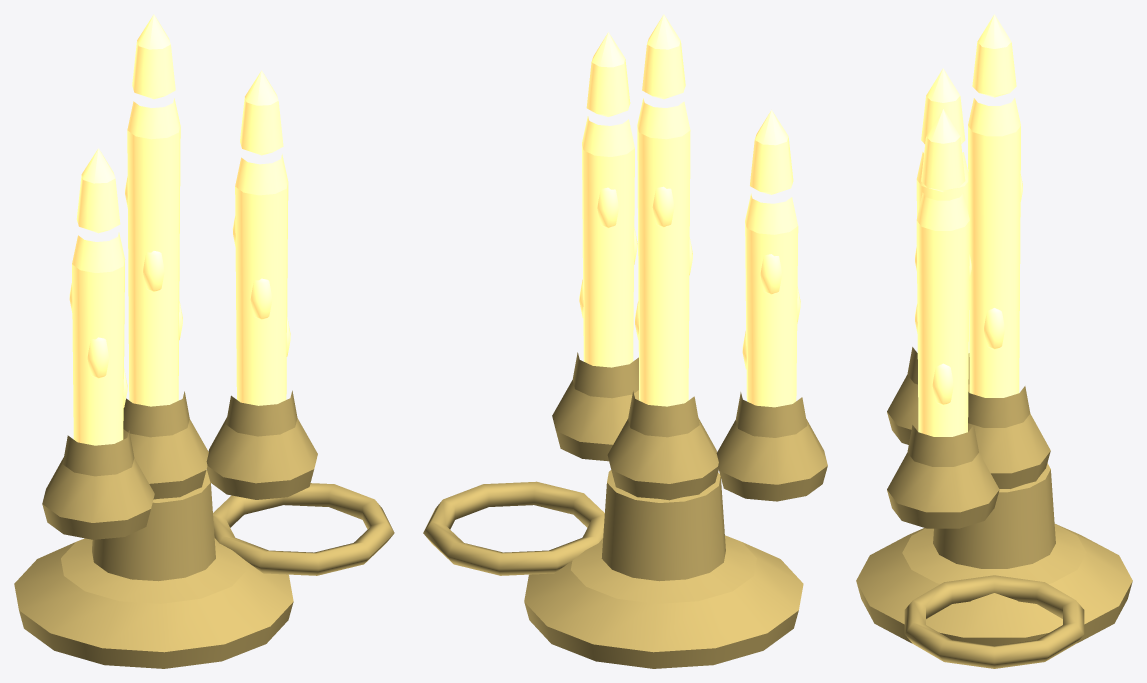
File: witch-cottage-and-apothecary-candle-holder-triple-37676885__32456.glb
The picture shows the model from 3 angles, left to right: view 1: azimuth 30°, elevation 25°; view 2: azimuth 150°, elevation 25°; view 3: azimuth 270°, elevation 25°; orthographic projection. The views are drawn at different scales.
Visible parts, largest first — view 1: candle-holder-triple; view 2: candle-holder-triple; view 3: candle-holder-triple.
Boxes of the visible parts, <box> form: candle-holder-triple: <box>14,14,394,668</box>; candle-holder-triple: <box>423,14,827,668</box>; candle-holder-triple: <box>856,14,1132,668</box>.
Size of the model in its own units: 0.3943 by 0.63 by 0.27.
